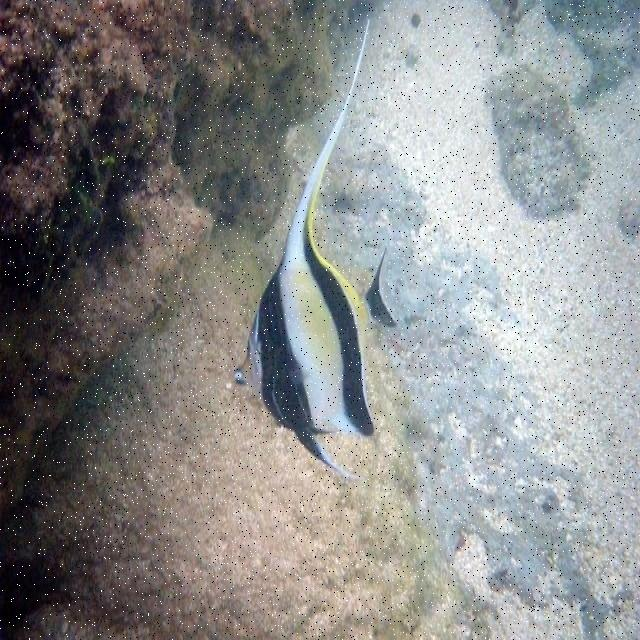fish: (233, 16, 401, 480)
